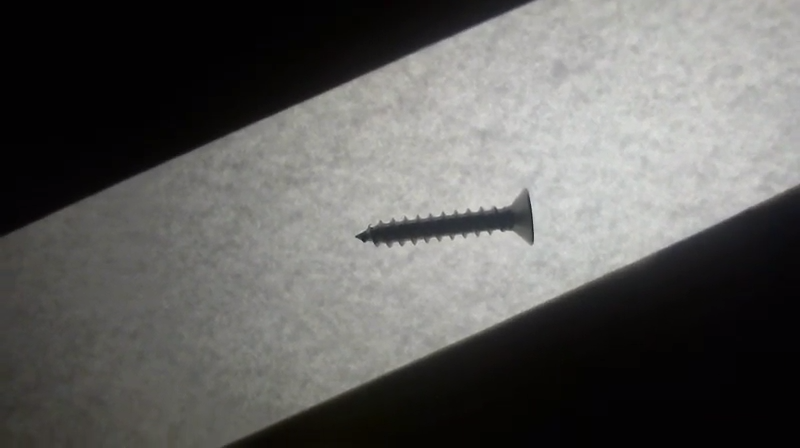S001: (348, 186, 537, 249)
